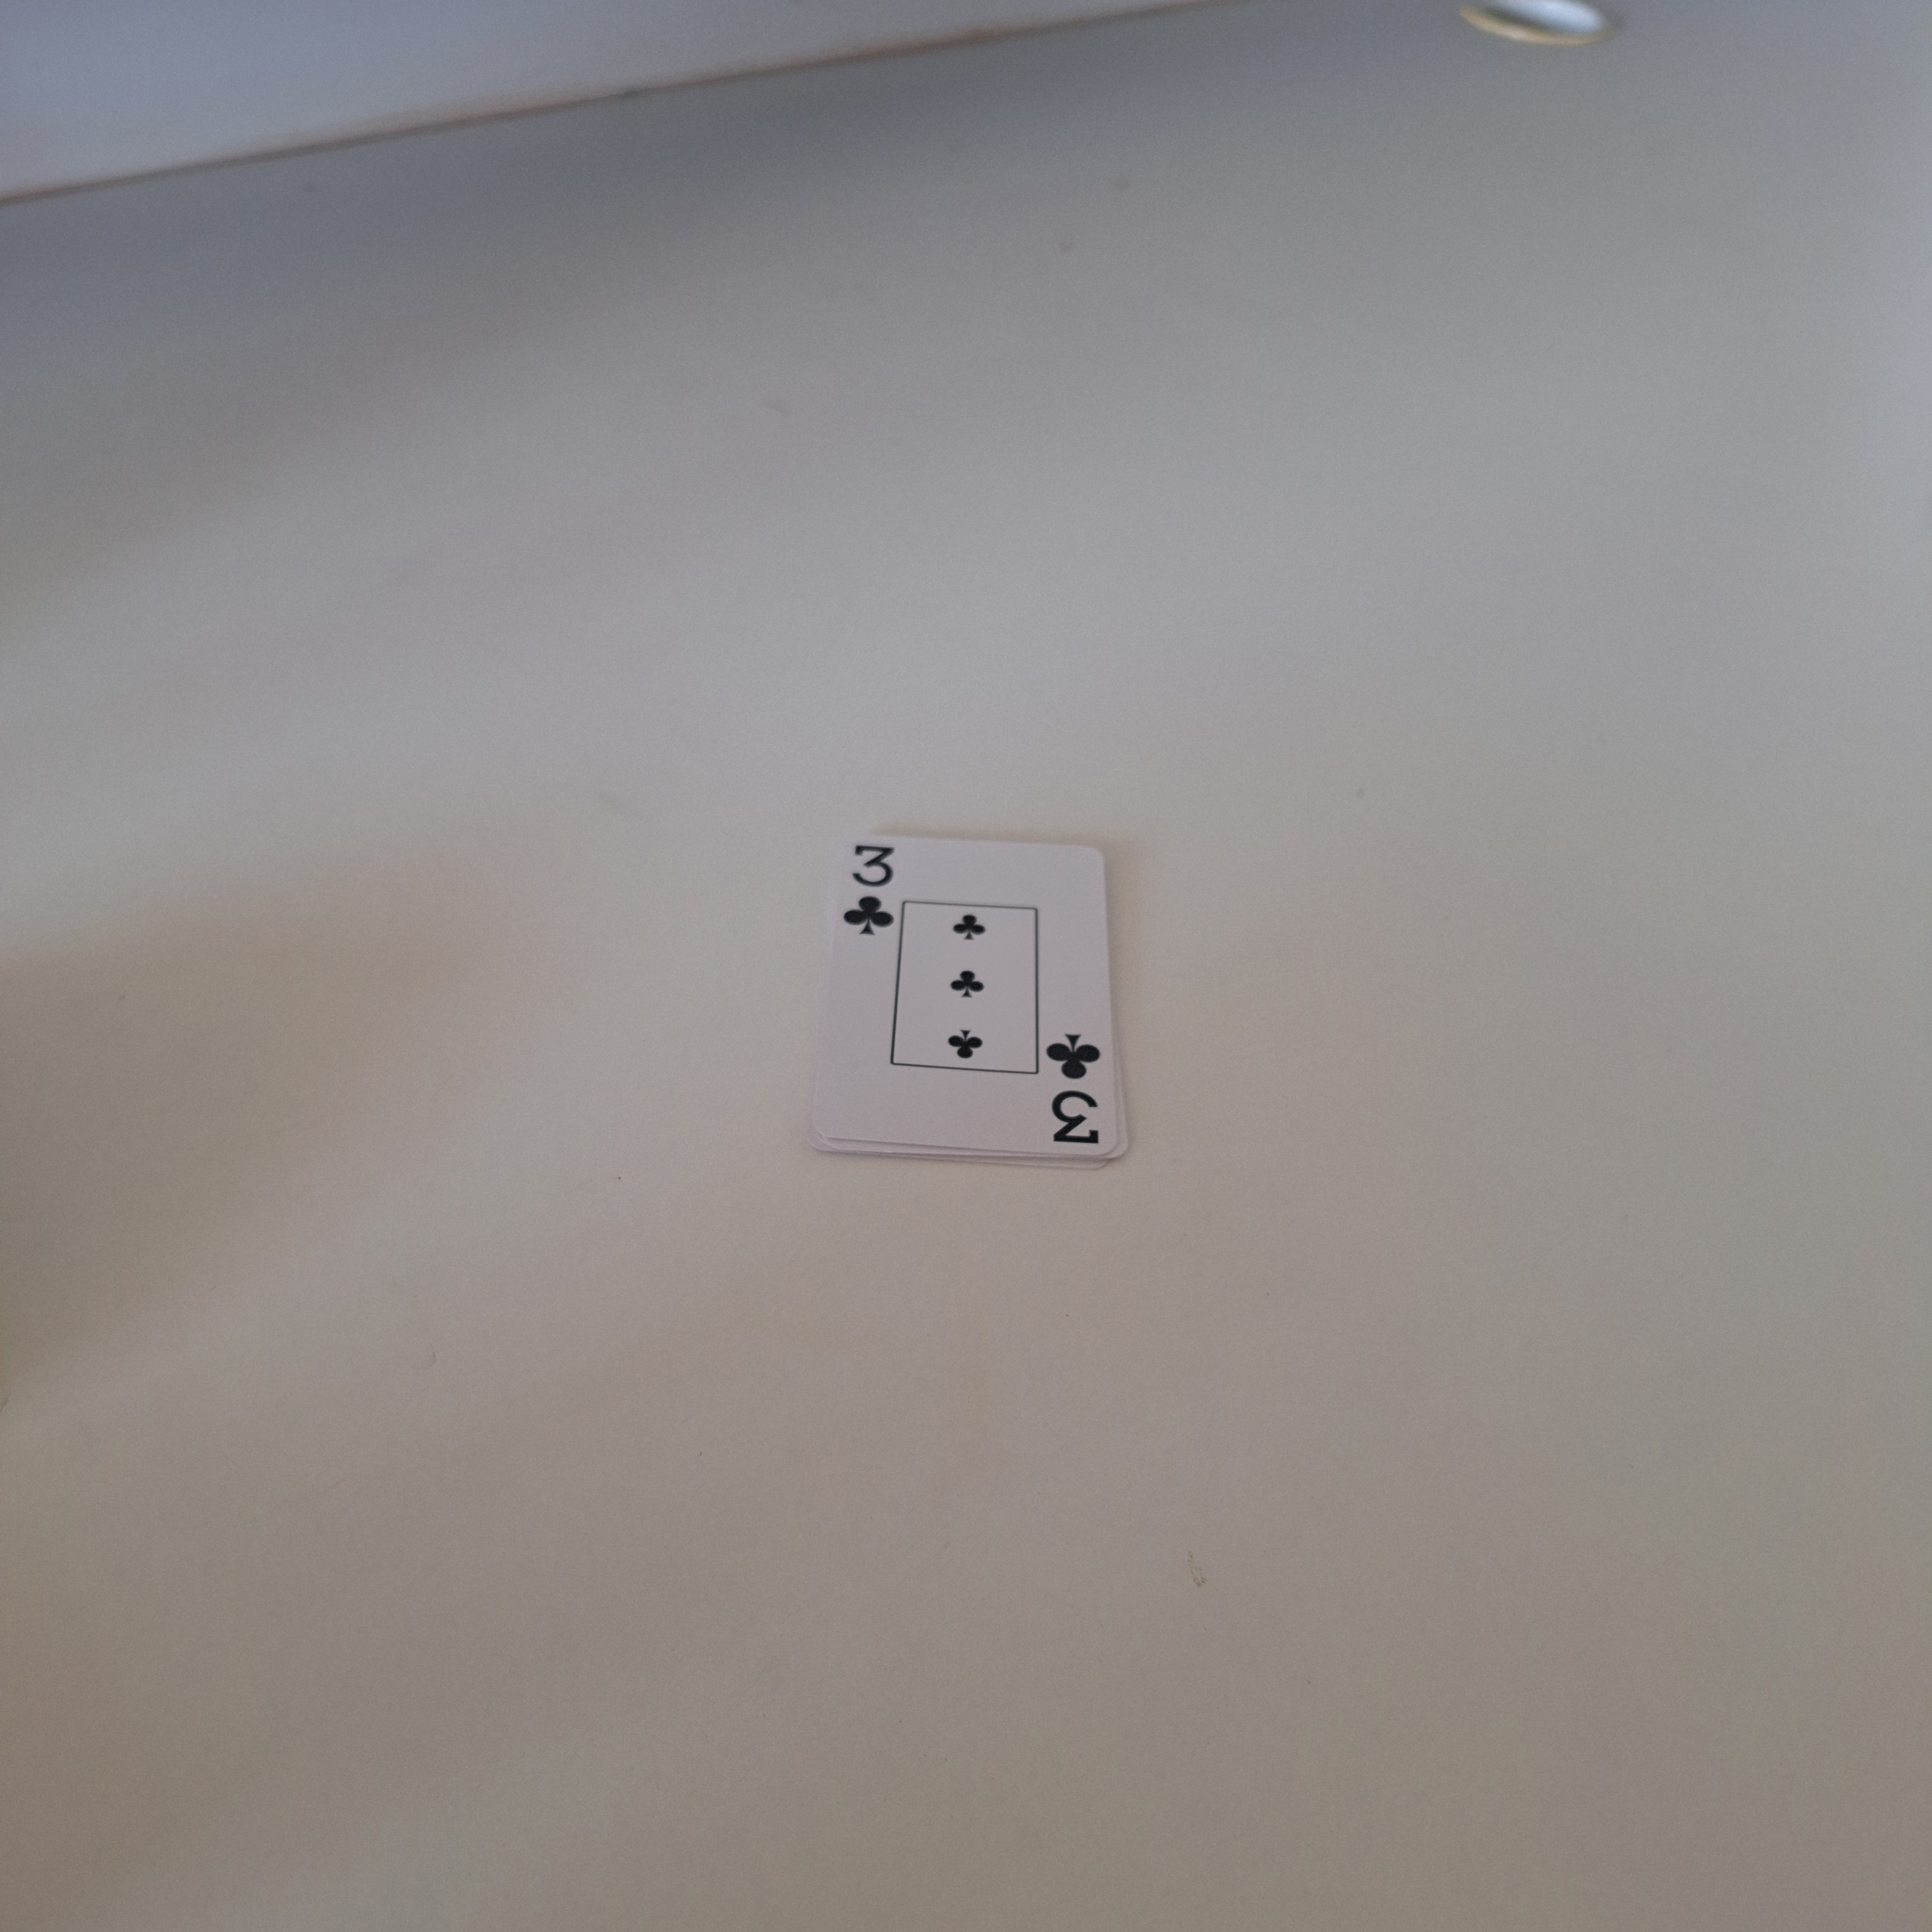3P: (1037, 1024, 1115, 1152), (833, 837, 901, 943)
